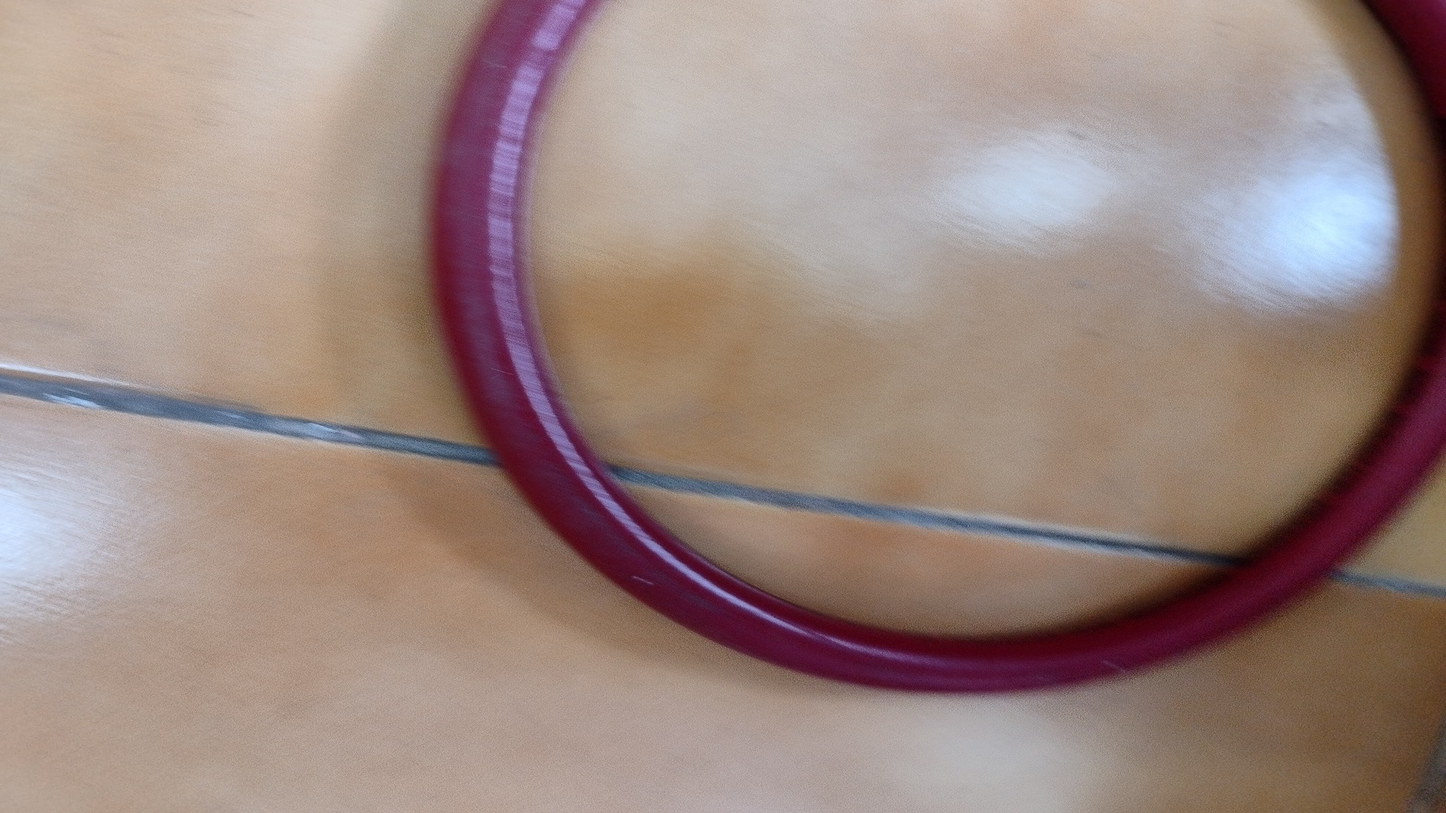Red ring: (434, 7, 1446, 695)
